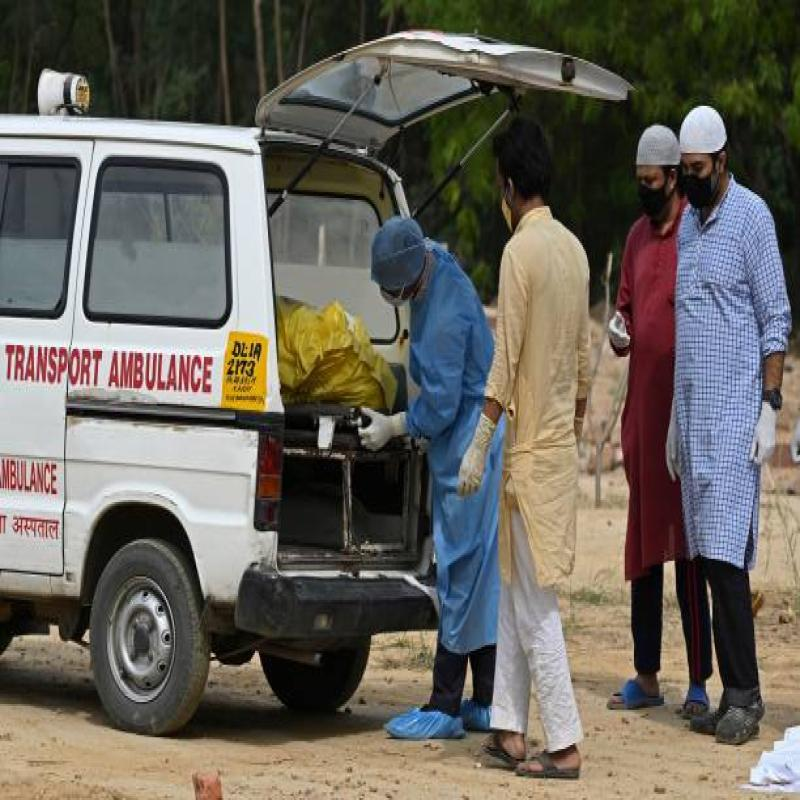ambulance: (0, 4, 608, 778)
